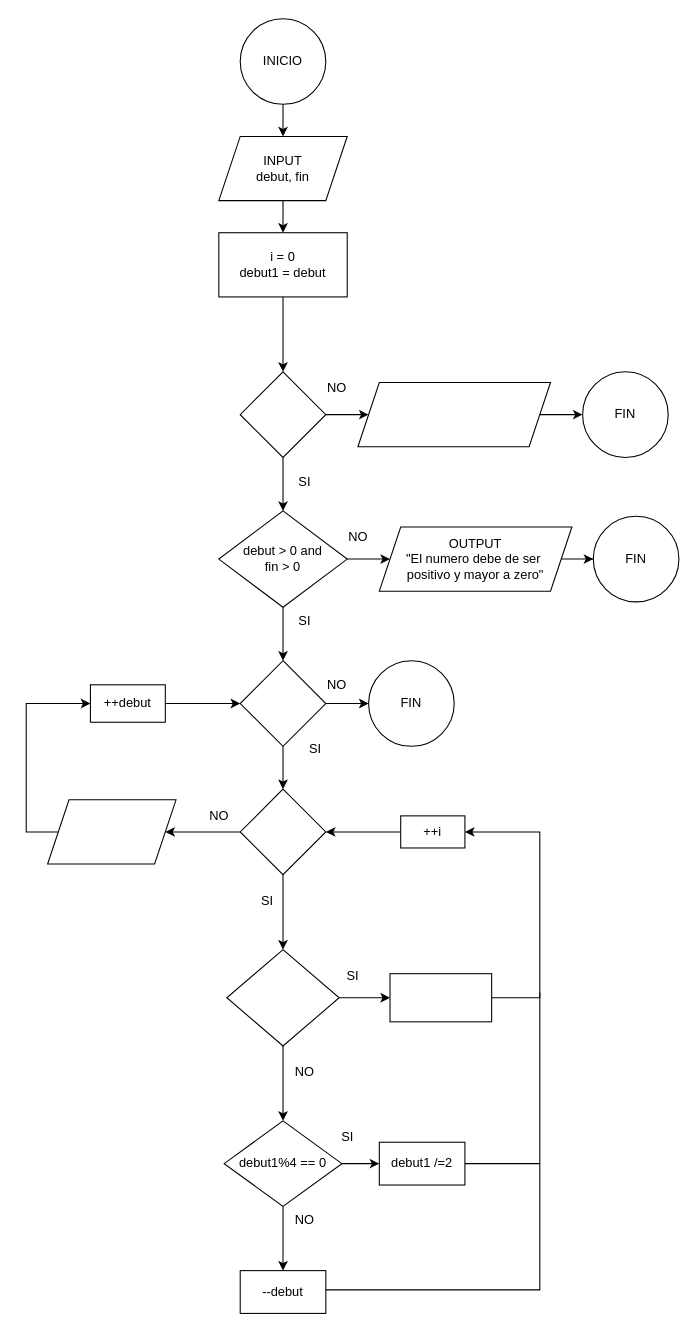
This 698x1332 diagram has some shape labels left out. The centre of each missing label's shape, as x and y in pixels:
debut <= fin: (282,703)
debut1 != 0: (282,831)
debut1 += 4: (440,997)
debut1%3 == 0: (282,997)
fin >=debut: (282,414)
OUTPUT "El numero de fin no debe de ser menor al inicial": (454,414)
OUTPUT debut, "->", i: (111,831)
